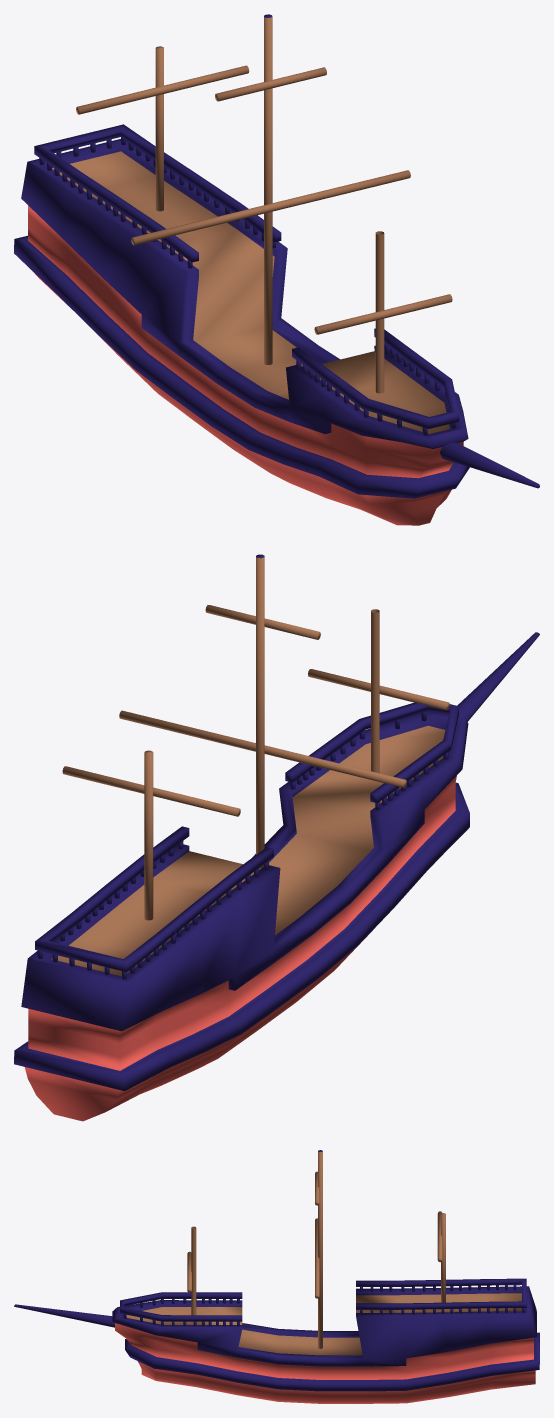
The model's file is Ship_Mesh.fbx.
3 renders of one model, top to bottom at view 1: azimuth 30°, elevation 25°; view 2: azimuth 150°, elevation 25°; view 3: azimuth 270°, elevation 25°, orthographic. The views are drawn at different scales.
Parts seen in each view (by area): view 1: Ship_Mesh; view 2: Ship_Mesh; view 3: Ship_Mesh.
Part boxes in pixels (x1=…): Ship_Mesh: x1=14, y1=14, x2=539, y2=525; Ship_Mesh: x1=14, y1=554, x2=539, y2=1121; Ship_Mesh: x1=14, y1=1150, x2=539, y2=1403.
Size of the model in its own units: 618 by 941 by 1800.
